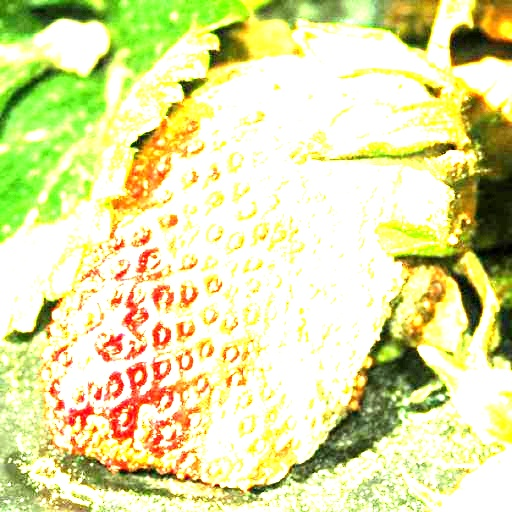Gray Mold: (39, 37, 488, 490)
